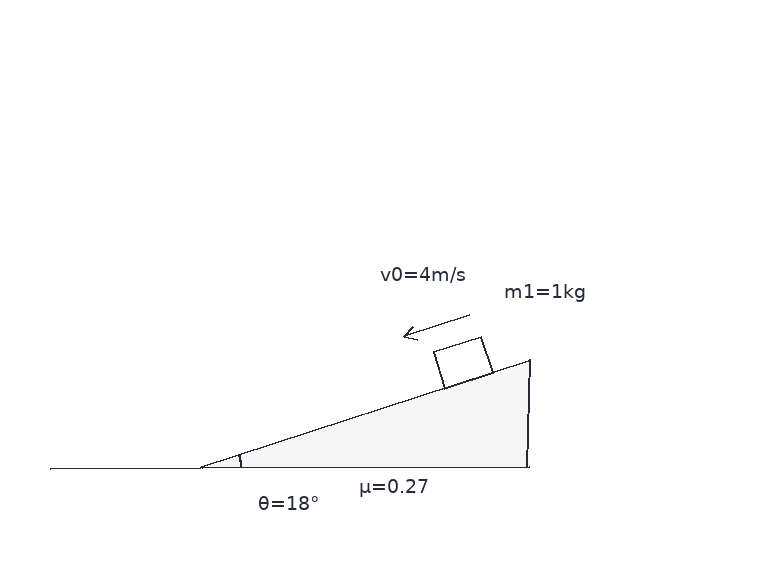block: (431, 335, 495, 390)
ramp: (199, 359, 530, 469)
